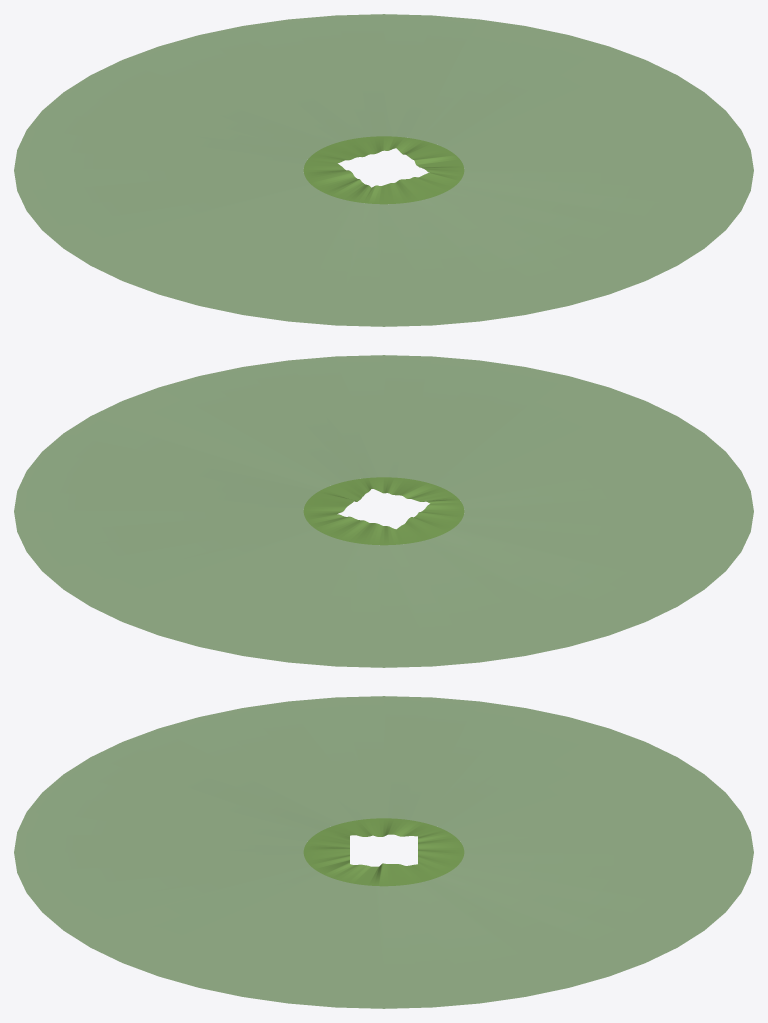
File: ground_apron.glb
3 renders of one model, top to bottom at view 1: azimuth 30°, elevation 25°; view 2: azimuth 150°, elevation 25°; view 3: azimuth 270°, elevation 25°, orthographic.
Parts seen in each view (by area): view 1: ground_apron; view 2: ground_apron; view 3: ground_apron.
Boxes of the visible parts, <box> form: ground_apron: <box>14,14,753,326</box>; ground_apron: <box>14,355,753,667</box>; ground_apron: <box>14,696,753,1008</box>.
Bounding box in the file's own units: 1520 × 8.06 × 1520.
